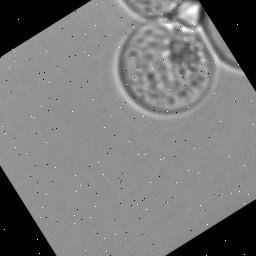picoshell: (112, 19, 219, 119), (198, 5, 243, 75), (123, 0, 197, 18)
